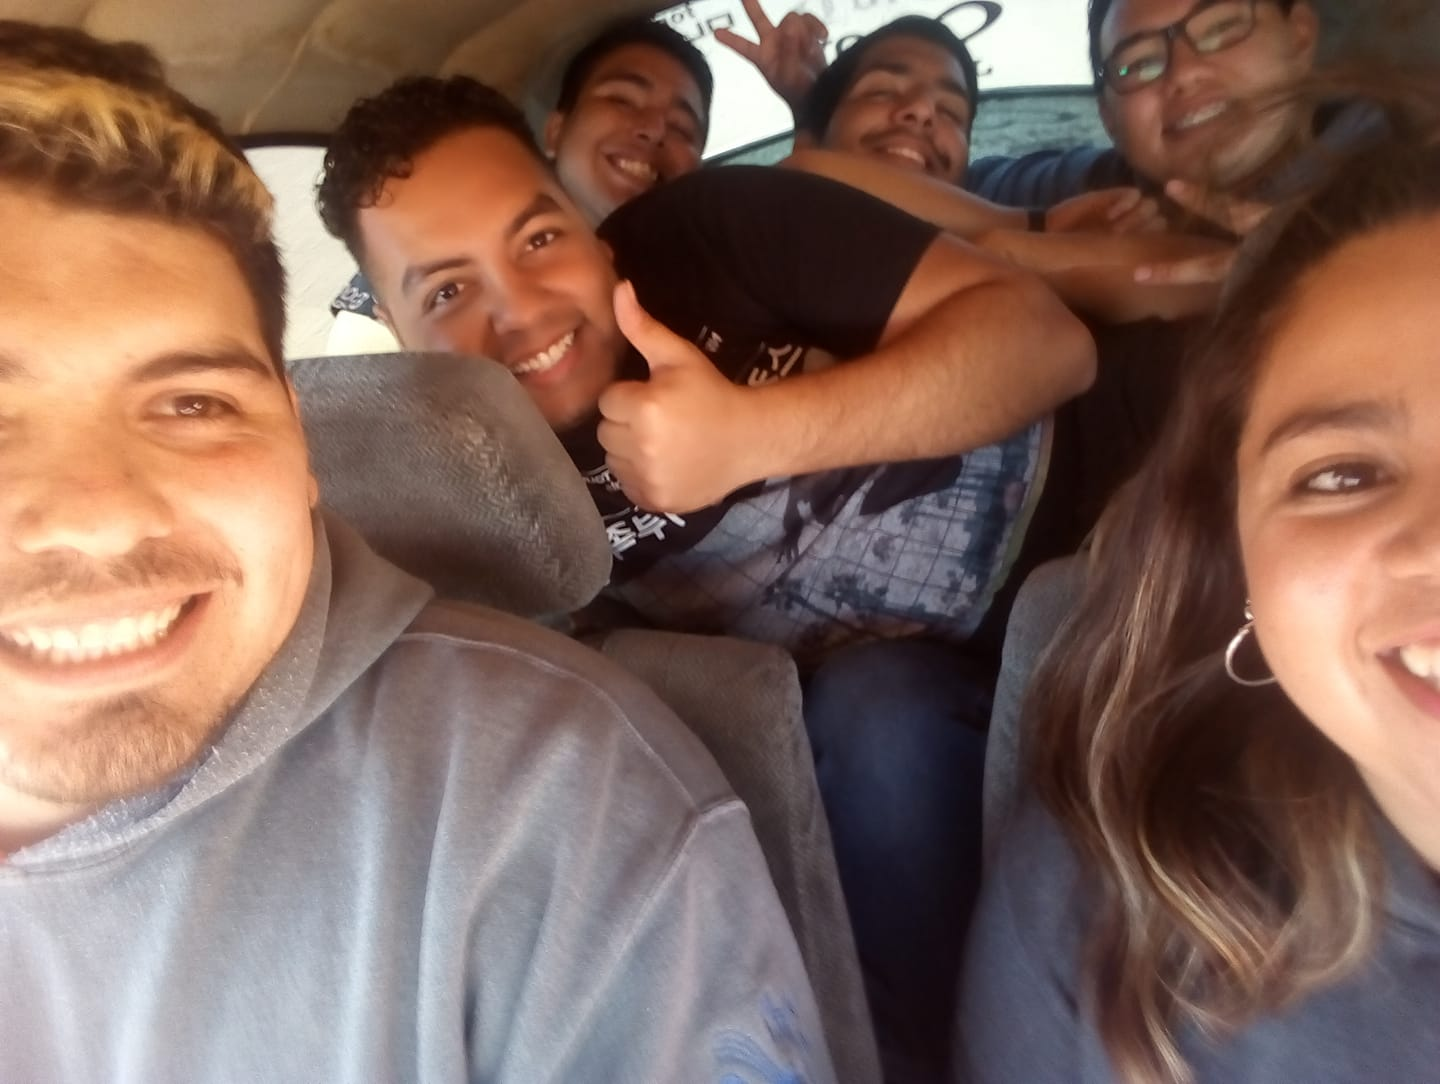Yoshi: (313, 77, 729, 526)
